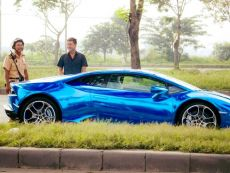police: (1, 36, 31, 96)
